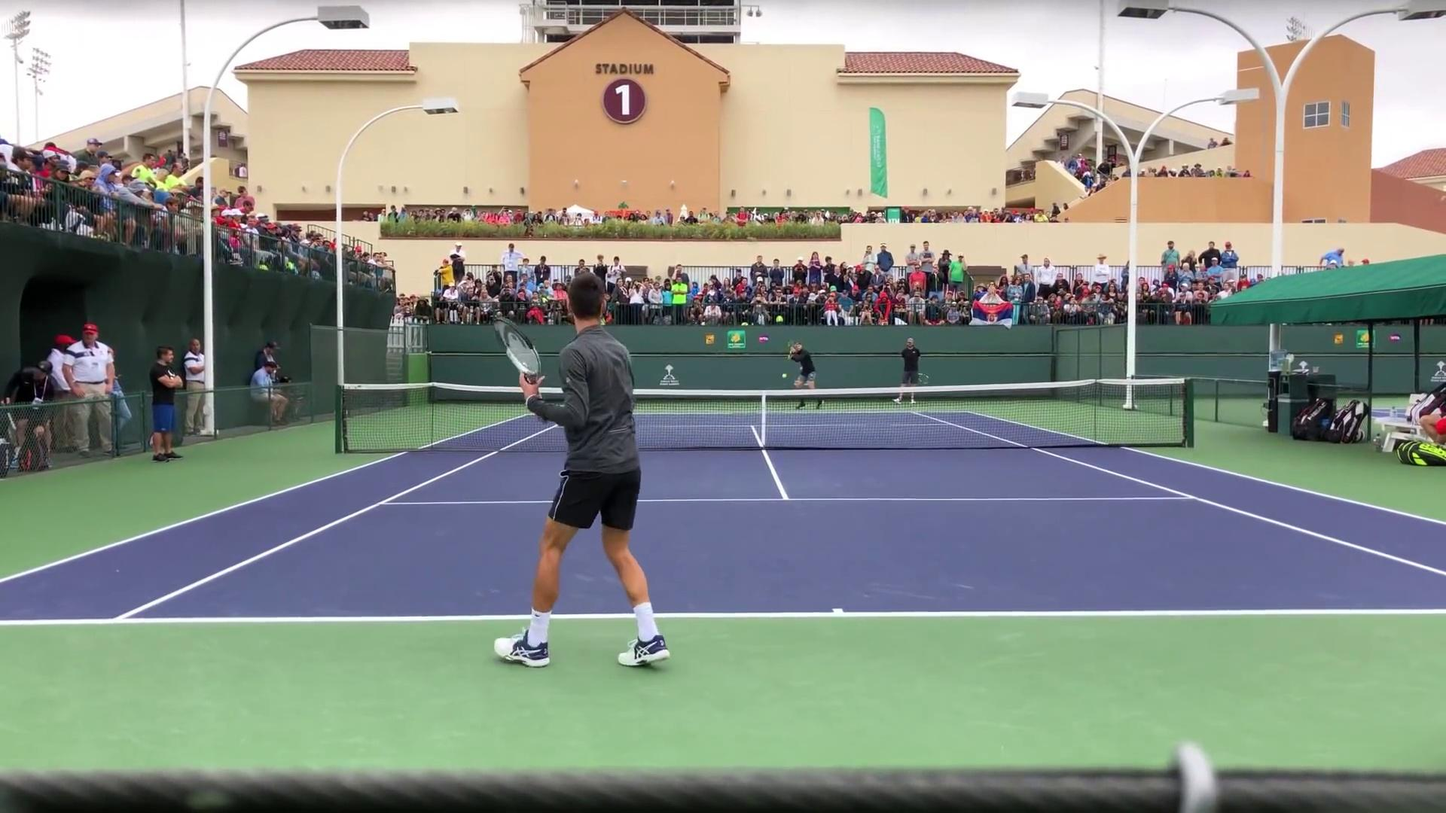ball: (779, 372, 788, 380), (390, 497, 395, 502)
